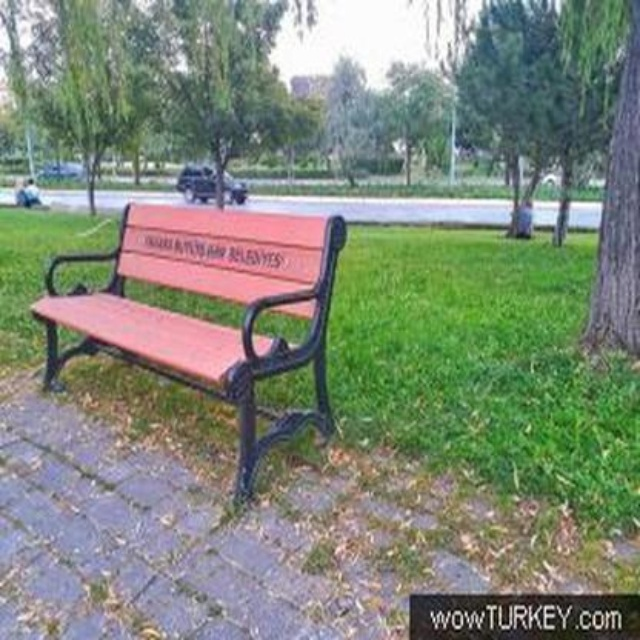obstacle: (18, 194, 375, 515)
